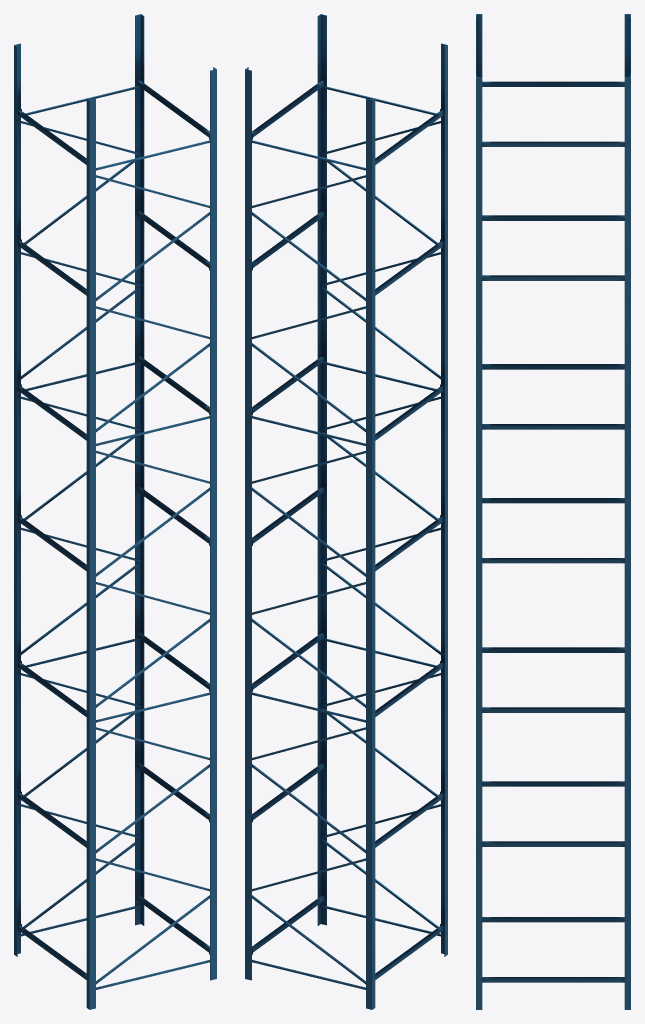
The model's file is shelves.serva.152.obj.
3 renders of one model, left to right at view 1: azimuth 30°, elevation 25°; view 2: azimuth 150°, elevation 25°; view 3: azimuth 270°, elevation 25°, orthographic. The views are drawn at different scales.
Visible parts, largest first — view 1: Line56; view 2: Line56; view 3: Line56.
Part boxes in pixels (box(x1,y1,x2,y2)): Line56: box(14, 14, 216, 1009); Line56: box(245, 14, 447, 1009); Line56: box(476, 14, 630, 1009).
Bounding box in the file's own units: 130 × 889 × 134.
